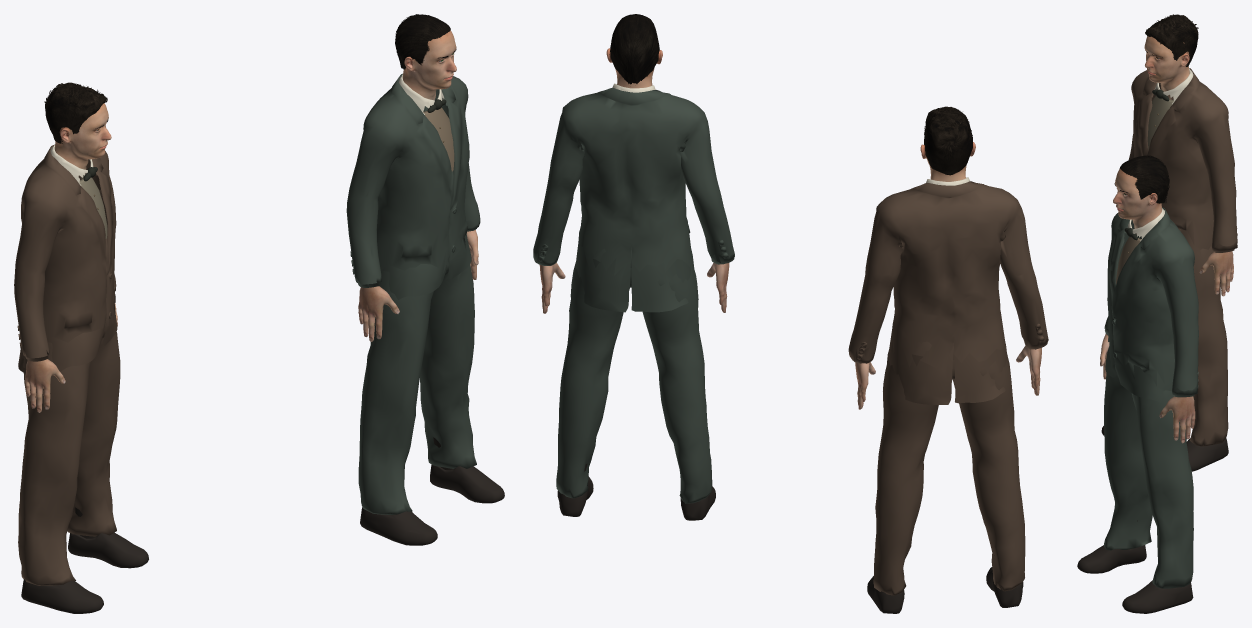
The model's file is brewery-characters.glb.
The picture shows the model from 3 angles, left to right: view 1: azimuth 30°, elevation 25°; view 2: azimuth 150°, elevation 25°; view 3: azimuth 270°, elevation 25°; orthographic projection. The views are drawn at different scales.
Visible parts, largest first — view 1: john_root_Coat, edward_root_Coat, john_upper_Coat, edward_upper_Coat, edward_root_Boot, john_root_Boot, edward_head_Hair, john_head_Skin, edward_head_Skin, john_head_Hair, john_upper_Skin, edward_upper_Skin (+1 smaller); view 2: edward_upper_Coat, john_upper_Coat, john_root_Coat, edward_root_Coat, edward_head_Hair, john_head_Hair, edward_root_Boot, john_root_Boot, john_upper_Skin, edward_upper_Skin; view 3: john_root_Coat, john_upper_Coat, edward_upper_Coat, edward_root_Coat, john_root_Boot, john_head_Skin, edward_head_Skin, edward_head_Hair, john_head_Hair, john_upper_Skin, edward_upper_Skin, edward_root_Boot (+4 smaller).
Part boxes in pixels (x1,y1,x2,y2): john_root_Coat: (355, 215, 480, 514); edward_root_Coat: (18, 281, 120, 585); john_upper_Coat: (346, 73, 479, 284); edward_upper_Coat: (14, 145, 116, 358); edward_root_Boot: (21, 507, 148, 613); john_root_Boot: (360, 437, 504, 545); edward_head_Hair: (44, 82, 107, 143); john_head_Skin: (402, 30, 456, 98); edward_head_Skin: (54, 103, 111, 167); john_head_Hair: (395, 14, 450, 69); john_upper_Skin: (358, 93, 478, 341); edward_upper_Skin: (25, 167, 117, 412); edward_upper_Coat: (848, 181, 1048, 370); john_upper_Coat: (533, 88, 734, 277); john_root_Coat: (533, 244, 734, 503); edward_root_Coat: (848, 331, 1047, 595); edward_head_Hair: (924, 106, 972, 175); john_head_Hair: (609, 14, 659, 84); edward_root_Boot: (867, 555, 1023, 613); john_root_Boot: (557, 463, 715, 520); john_upper_Skin: (539, 262, 729, 313); edward_upper_Skin: (855, 346, 1041, 409); john_root_Coat: (1104, 326, 1198, 588); john_upper_Coat: (1104, 207, 1198, 391); edward_upper_Coat: (1128, 68, 1237, 247); edward_root_Coat: (1181, 220, 1237, 446); john_root_Boot: (1077, 520, 1193, 613); john_head_Skin: (1113, 169, 1162, 227); edward_head_Skin: (1144, 36, 1189, 89); edward_head_Hair: (1145, 14, 1198, 66); john_head_Hair: (1119, 155, 1169, 203); john_upper_Skin: (1100, 225, 1195, 443); edward_upper_Skin: (1160, 83, 1233, 296); edward_root_Boot: (1101, 426, 1228, 471).
Bounding box in the file's own units: 1.82 × 1.77 × 0.604.
Materials: 20 (8 with a texture image).
